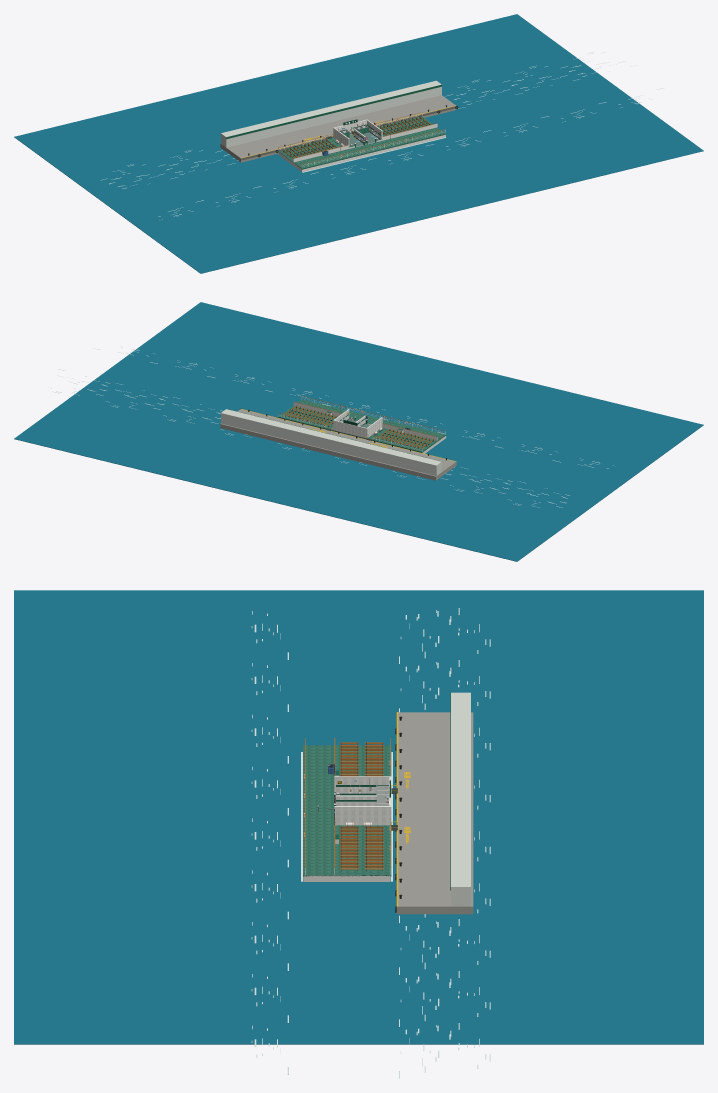
Rendered from level_ferry.glb.
3 views of the same model, one above another, from view 1: azimuth 30°, elevation 25°; view 2: azimuth 150°, elevation 25°; view 3: azimuth 270°, elevation 25° (orthographic). The views are drawn at different scales.
Parts seen in each view (by area): view 1: sea, pier_a, neighbours, street, sea_foam, walls; view 2: sea, pier_a, neighbours, street, sea_foam, walls; view 3: sea, pier_a, street, neighbours, walls, sea_foam.
Part boxes in pixels (box(x1,y1,x2,y2)): sea: box(14, 14, 703, 273); pier_a: box(220, 80, 458, 162); neighbours: box(278, 112, 445, 172); street: box(278, 116, 445, 168); sea_foam: box(101, 51, 663, 220); walls: box(333, 119, 382, 148); sea: box(14, 302, 703, 561); pier_a: box(220, 408, 456, 480); neighbours: box(278, 396, 446, 453); street: box(278, 399, 445, 452); sea_foam: box(47, 346, 613, 508); walls: box(333, 409, 382, 438); sea: box(14, 590, 703, 1044); pier_a: box(391, 692, 473, 914); street: box(303, 745, 391, 875); neighbours: box(301, 738, 392, 881); walls: box(334, 776, 391, 825); sea_foam: box(251, 608, 490, 1078).
Bounding box in the file's own units: 151 × 4.91 × 90.
75 materials, 4 textured.
